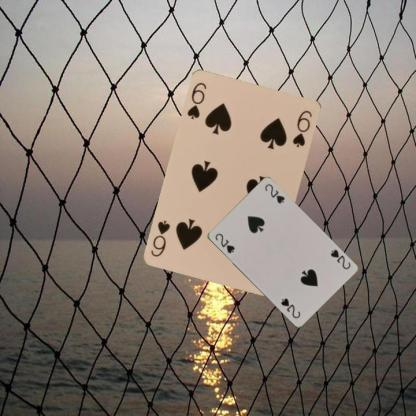2s: (212, 231, 236, 256), (328, 247, 351, 270)
6s: (184, 80, 208, 121)
